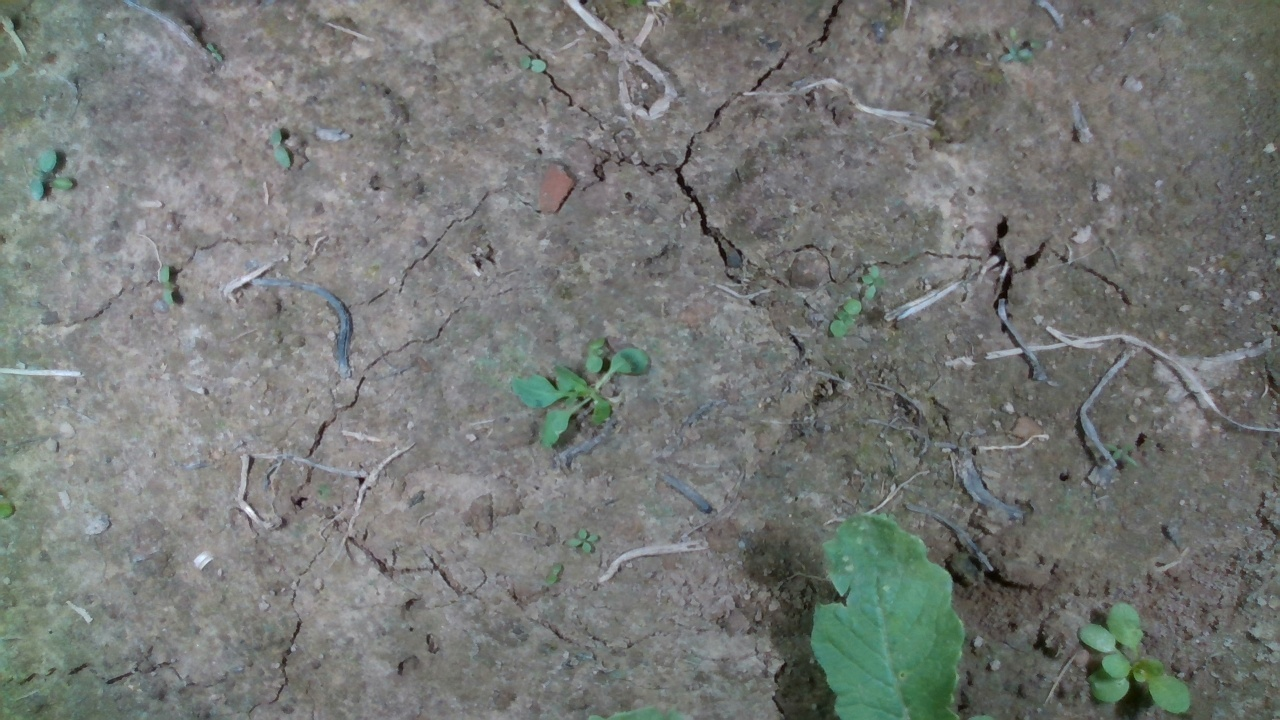weed: (26, 145, 77, 201), (827, 298, 863, 338), (267, 124, 290, 172), (564, 525, 600, 554), (862, 262, 886, 299), (159, 262, 176, 307), (518, 53, 546, 74), (544, 561, 562, 584)
